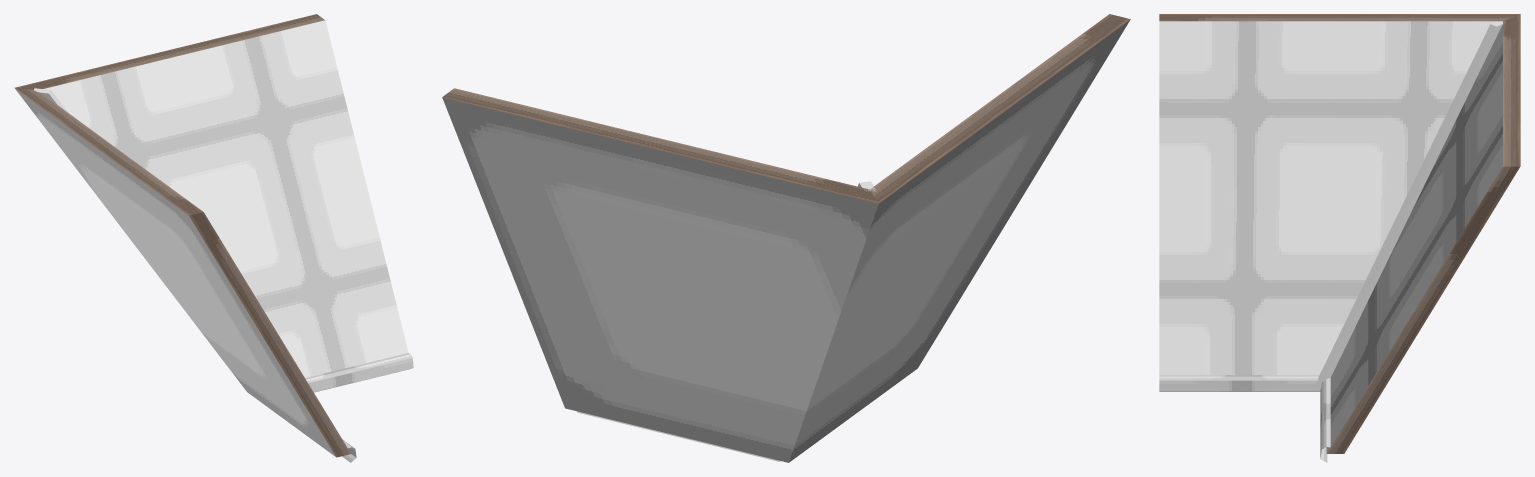
The model's file is SM_Roof_Corner_03.fbx.
3 renders of one model, left to right at view 1: azimuth 30°, elevation 25°; view 2: azimuth 150°, elevation 25°; view 3: azimuth 270°, elevation 25°, orthographic. The views are drawn at different scales.
Visible parts, largest first — view 1: SM_Roof_Corner_03_LOD0; view 2: SM_Roof_Corner_03_LOD0; view 3: SM_Roof_Corner_03_LOD0.
Boxes of the visible parts, x1,y1,x2,y2 form: SM_Roof_Corner_03_LOD0: [14, 14, 413, 462]; SM_Roof_Corner_03_LOD0: [442, 14, 1130, 462]; SM_Roof_Corner_03_LOD0: [1159, 14, 1520, 462].
Bounding box in the file's own units: 1025 × 1025 × 929.
